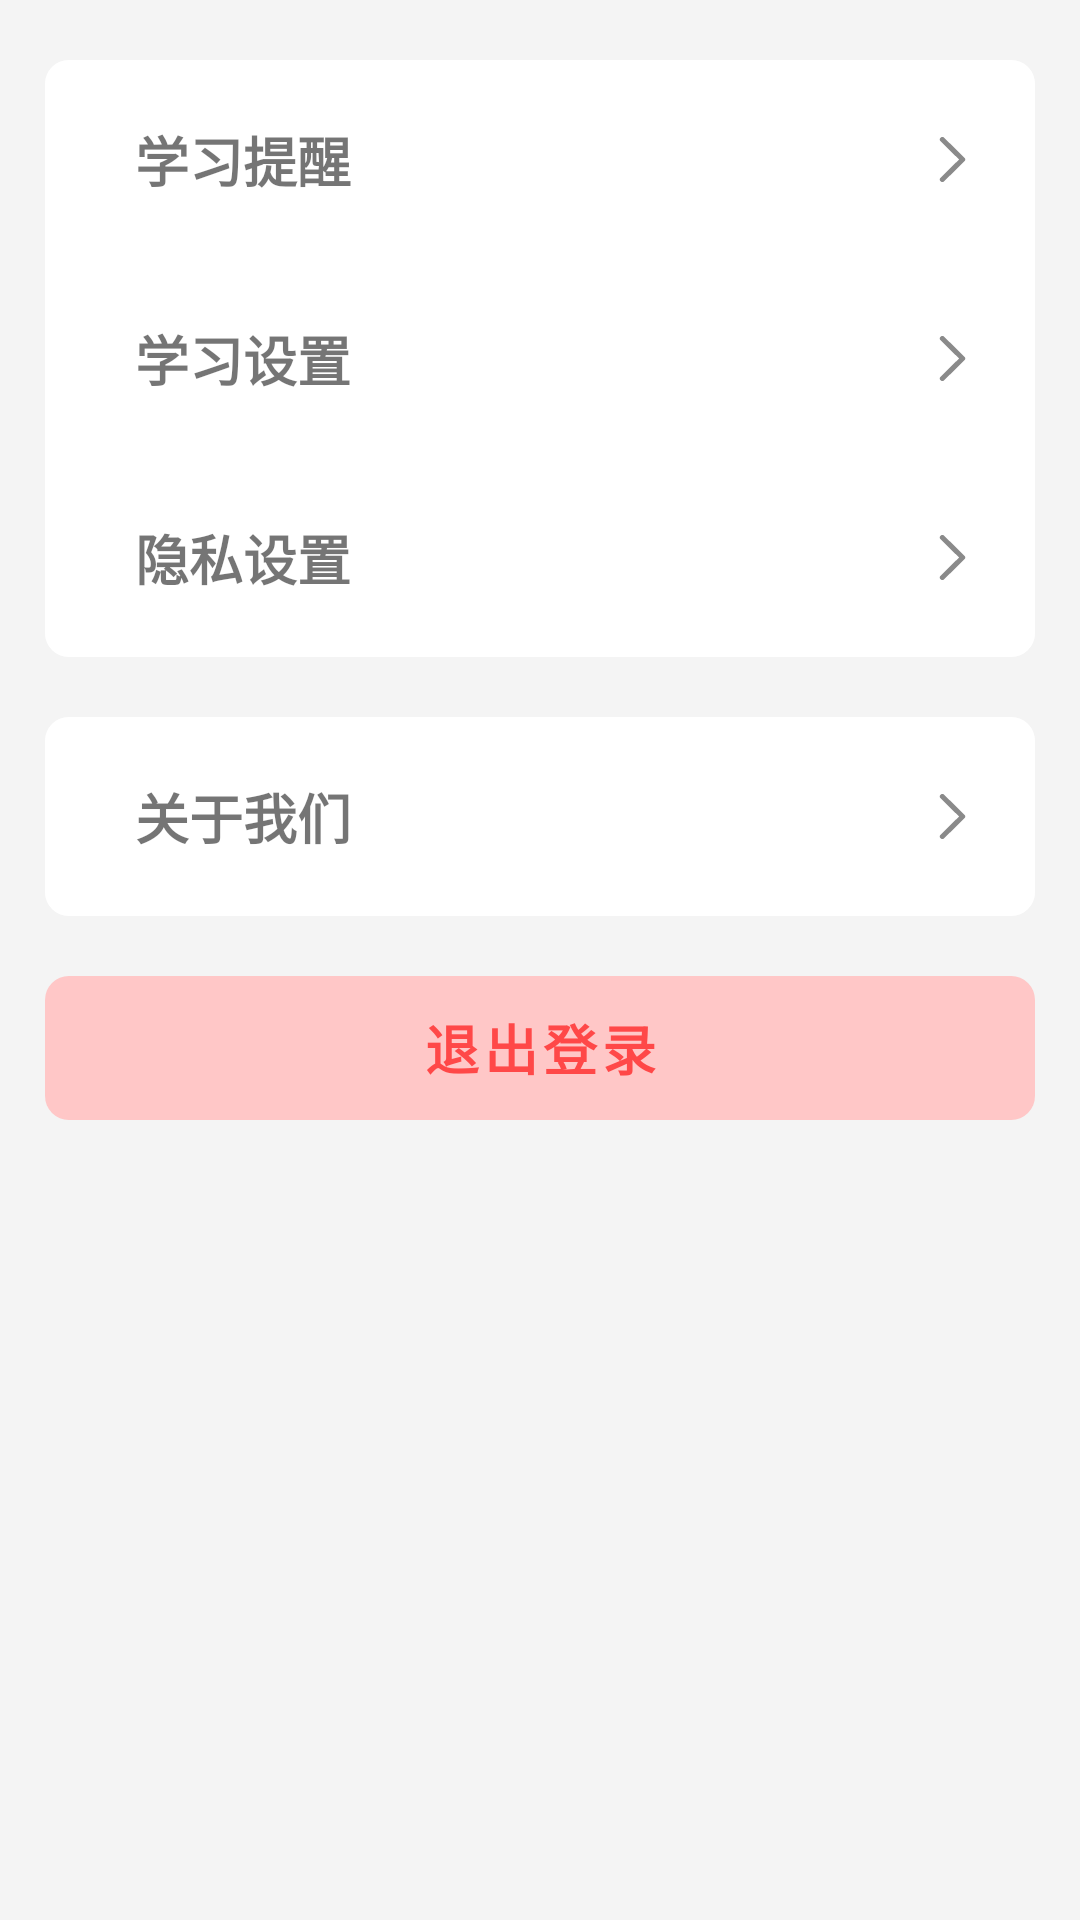

Point at icon controls on the screen. Image size 1080px×1920px, points as (x=x, y=y).
user arrowright: (x=952, y=159), (x=952, y=358), (x=952, y=557), (x=952, y=816)
